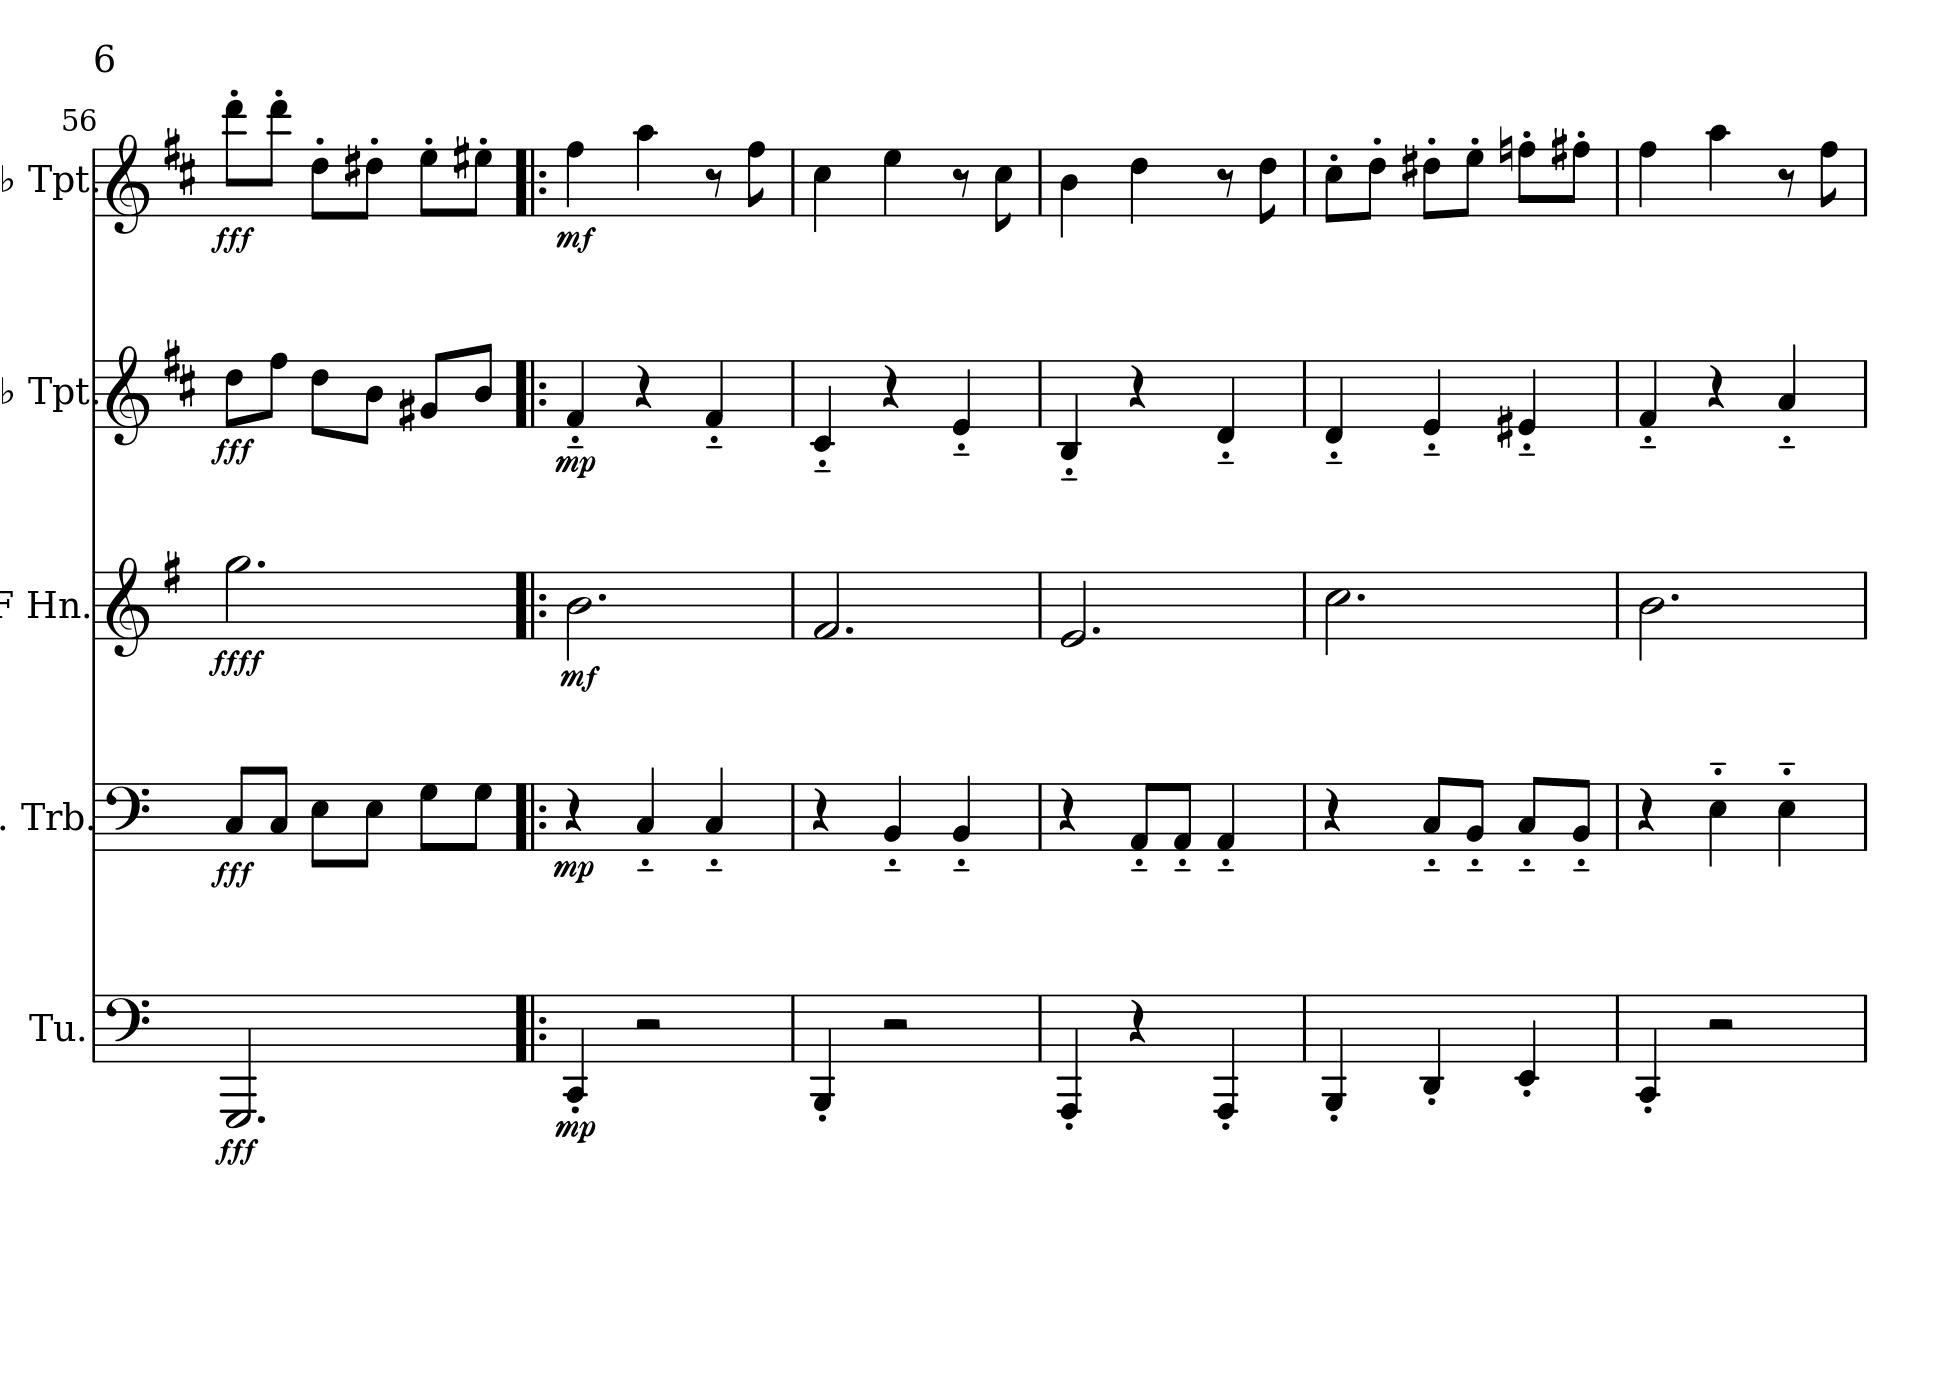2_-7: (220, 991, 258, 1126)
2_0: (1059, 568, 1087, 649)
2_1: (811, 570, 841, 640)
2_4: (565, 570, 592, 663), (1638, 570, 1663, 661)
2_5: (1323, 570, 1350, 655)
2_9: (220, 553, 250, 640)
4_-1: (1323, 357, 1345, 445), (1215, 358, 1236, 445)
4_-2: (808, 358, 834, 451), (1515, 991, 1539, 1087)
4_-3: (1419, 991, 1444, 1098), (1057, 357, 1080, 460)
4_-4: (562, 991, 589, 1102), (1635, 991, 1660, 1105)
4_-5: (1320, 991, 1347, 1113), (808, 991, 835, 1111)
4_-6: (1212, 990, 1242, 1120), (1056, 990, 1086, 1119)
4_0: (1516, 357, 1539, 436), (949, 358, 972, 436), (1422, 357, 1443, 436)
4_1: (1215, 781, 1239, 852), (564, 358, 586, 429), (702, 358, 724, 429), (1636, 358, 1659, 429)
4_10: (631, 121, 660, 219), (1704, 121, 1731, 217)
4_2: (949, 772, 973, 850), (882, 772, 904, 850)
4_3: (1776, 342, 1798, 427), (634, 765, 657, 850), (703, 765, 724, 850)
4_4: (1059, 147, 1080, 238)
4_5: (811, 145, 832, 234), (1707, 781, 1728, 870), (1776, 781, 1797, 868)
4_6: (1128, 145, 1150, 228)
4_7: (880, 147, 904, 217)
4_8: (562, 138, 588, 219), (1636, 139, 1659, 219)
5: (61, 105, 79, 133)
6: (94, 40, 115, 72), (79, 106, 97, 133)
8_1: (1128, 780, 1156, 853), (1171, 780, 1194, 853)
8_13: (259, 97, 292, 217), (220, 97, 247, 216)
8_2: (418, 349, 447, 429), (1464, 777, 1486, 852), (1570, 777, 1593, 852)
8_3: (223, 763, 252, 850), (1516, 772, 1545, 852), (1422, 772, 1449, 850), (268, 763, 289, 853)
8_4: (355, 358, 382, 447), (472, 340, 493, 430)
8_5: (355, 780, 385, 868), (307, 780, 330, 870), (993, 145, 1014, 234), (1323, 148, 1344, 225)
8_6: (355, 147, 385, 222), (1359, 145, 1387, 222), (1257, 145, 1281, 226), (309, 357, 330, 438), (309, 148, 331, 222), (1422, 147, 1443, 222), (223, 358, 244, 430)
8_7: (463, 145, 493, 217), (463, 781, 493, 852), (1456, 147, 1485, 217), (417, 147, 439, 219), (418, 781, 439, 852)
8_8: (259, 351, 289, 429), (1563, 139, 1591, 217), (1515, 139, 1537, 219), (1818, 139, 1840, 219), (745, 138, 766, 219)
D_S: (160, 124, 198, 196), (160, 334, 196, 406)
Fclef: (103, 780, 151, 852), (103, 991, 150, 1063)
Gclef: (105, 553, 150, 658), (105, 343, 148, 445), (106, 132, 148, 235)
Hn: (24, 583, 81, 625)
LeftRepeatSign: (511, 147, 550, 217), (511, 993, 550, 1062), (511, 570, 549, 640), (513, 781, 550, 850), (513, 358, 549, 427)
Natural: (1497, 123, 1515, 174)
Rests2: (877, 1014, 913, 1035), (1704, 1015, 1740, 1036), (631, 1015, 666, 1035)
Rests4: (1320, 784, 1344, 832), (808, 786, 832, 832), (1056, 784, 1078, 832), (631, 363, 654, 409), (561, 786, 583, 832), (879, 361, 900, 409), (1126, 361, 1147, 409), (1705, 361, 1726, 409), (1635, 784, 1656, 832), (1126, 997, 1147, 1042)
Rests8: (949, 165, 973, 199), (1215, 165, 1237, 199), (1776, 165, 1798, 199), (703, 165, 724, 199)
Sharp: (160, 547, 183, 597), (1494, 402, 1515, 450), (396, 385, 415, 433), (342, 142, 361, 189), (451, 133, 469, 181), (1401, 142, 1419, 190), (1551, 124, 1569, 172)
Single_barline: (783, 358, 802, 427), (1032, 360, 1050, 427), (1296, 571, 1314, 639), (1296, 783, 1314, 850), (1032, 994, 1050, 1062), (1296, 994, 1314, 1062), (784, 571, 802, 637), (1032, 571, 1050, 637), (1609, 358, 1626, 427), (87, 781, 103, 850), (1857, 781, 1873, 850), (1297, 360, 1314, 427), (1857, 360, 1873, 427), (87, 571, 103, 639), (784, 783, 801, 850), (1032, 783, 1048, 850), (784, 994, 801, 1062), (784, 148, 801, 214), (1032, 148, 1048, 214), (1609, 148, 1626, 214), (1857, 148, 1873, 214), (1857, 571, 1873, 637), (1609, 571, 1626, 637), (1857, 994, 1873, 1060), (1609, 783, 1626, 847), (88, 358, 103, 427), (1611, 994, 1626, 1062), (1297, 148, 1312, 214), (87, 994, 102, 1060), (88, 147, 102, 217)
Tpt: (24, 370, 88, 414), (25, 159, 88, 199)
Trb: (18, 793, 84, 835)
dot: (253, 556, 267, 571), (595, 589, 609, 604), (1354, 589, 1368, 604), (1668, 589, 1681, 603), (1089, 622, 1102, 636), (841, 622, 855, 636), (255, 1111, 267, 1125)
fff: (208, 223, 256, 256), (208, 435, 256, 468), (213, 1135, 259, 1168), (208, 859, 256, 891)
ffff: (205, 646, 268, 679)
mf: (556, 661, 601, 697), (555, 225, 597, 256)
mp: (552, 451, 598, 481), (550, 856, 595, 886), (552, 1116, 598, 1144)
